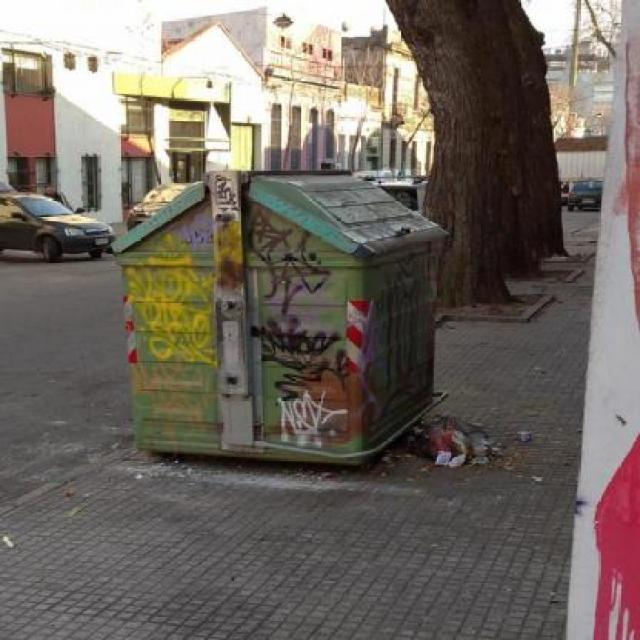garbage: (393, 408, 533, 471)
